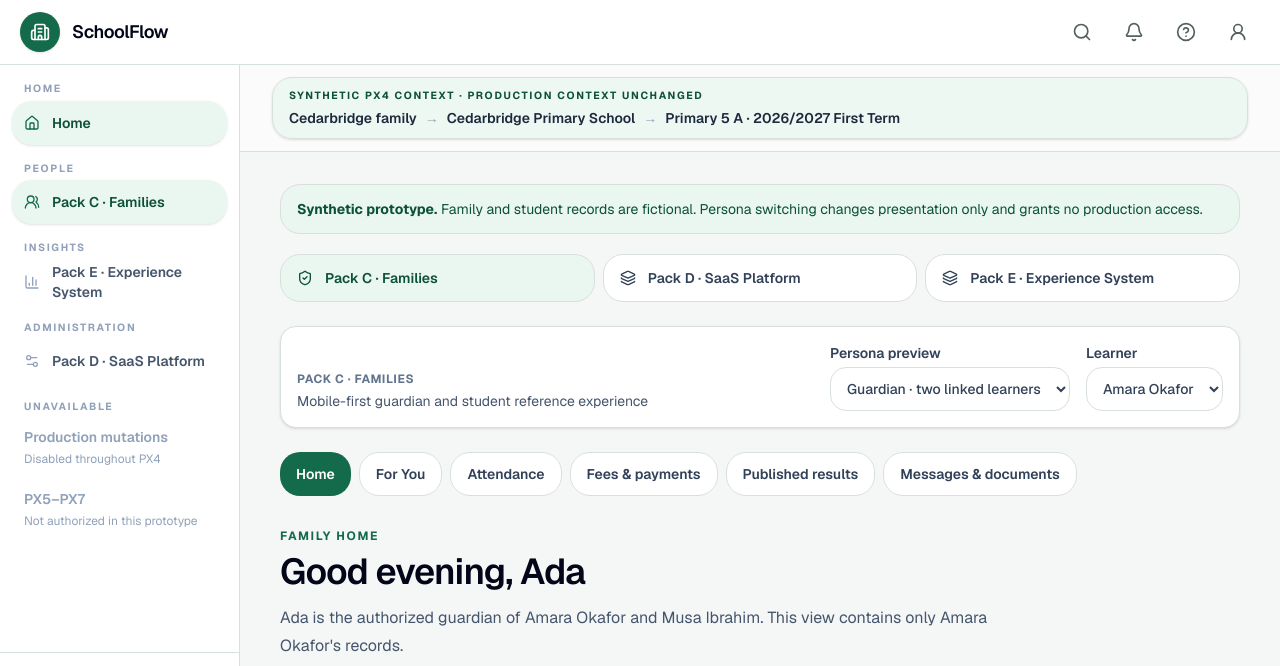
Test: PX4 Prototype Packs C–E › keeps linked child records separate and removes stale learner data
Select "Musa Ibrahim" in the dropdown named "Linked learner" at x=1154, y=389, box top-left (1086, 367), bottom-right (1223, 411)
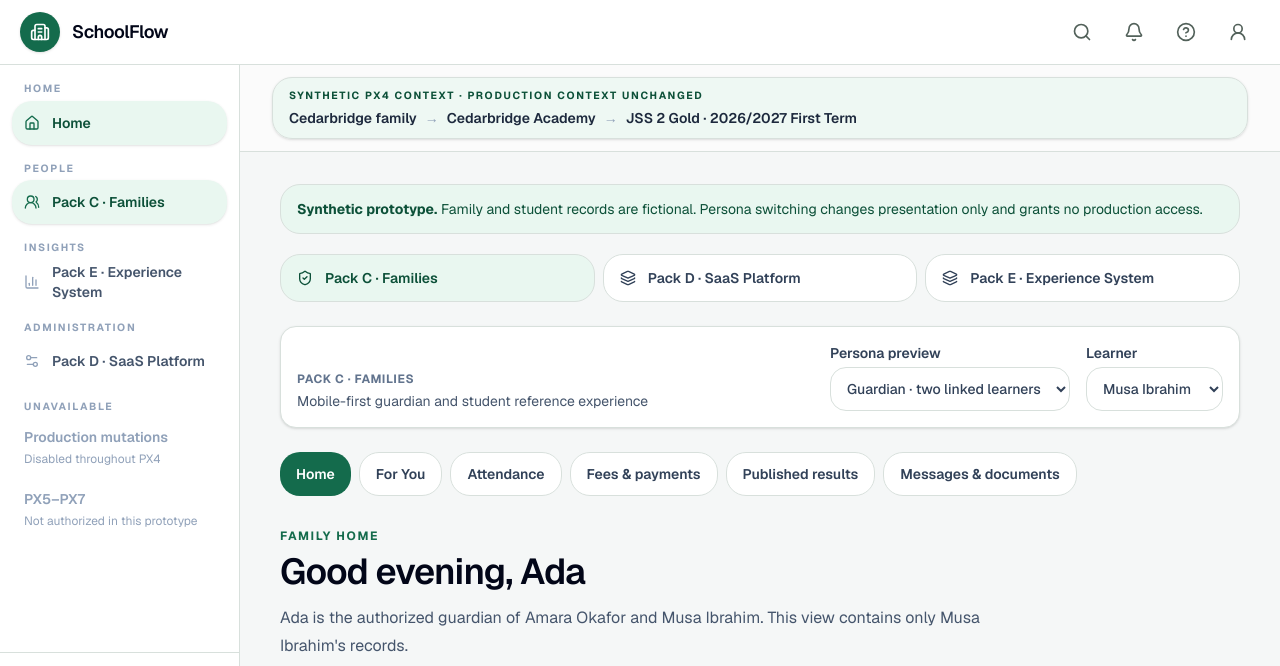
Click the button "Fees & payments".
click(644, 474)  # box top-left (570, 452), bottom-right (718, 496)
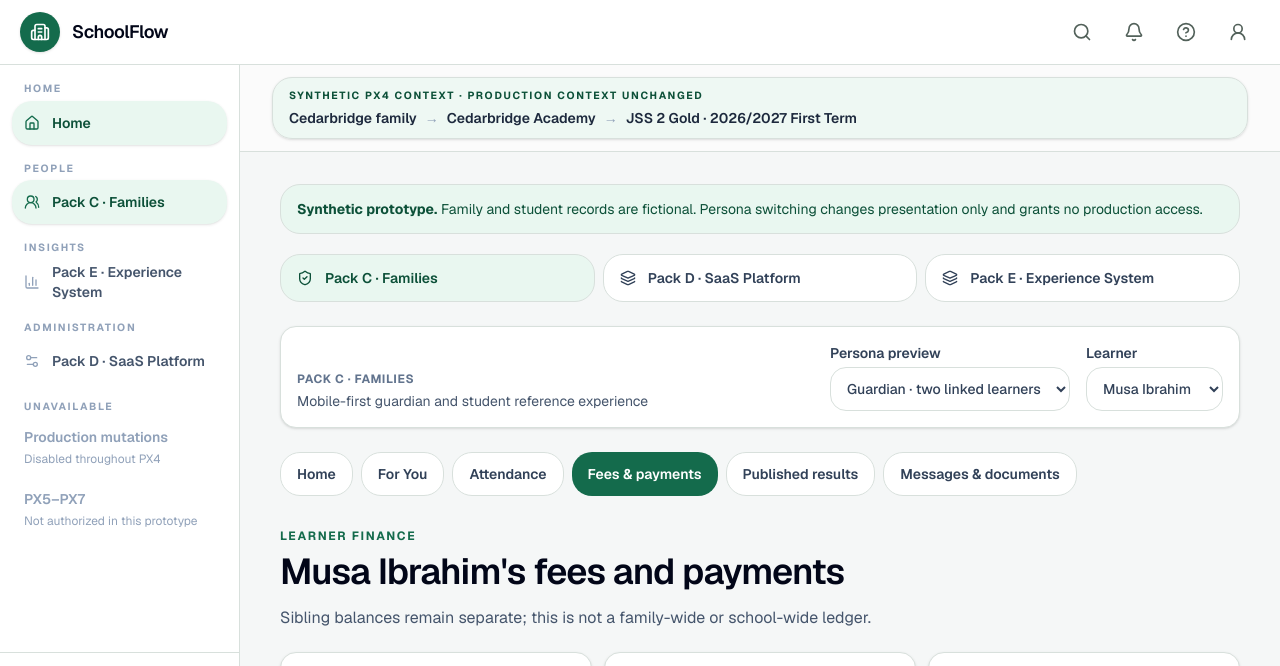
Check: the text "Sibling balances remain separate" is shown, box top-left (280, 607), bottom-right (871, 628)
